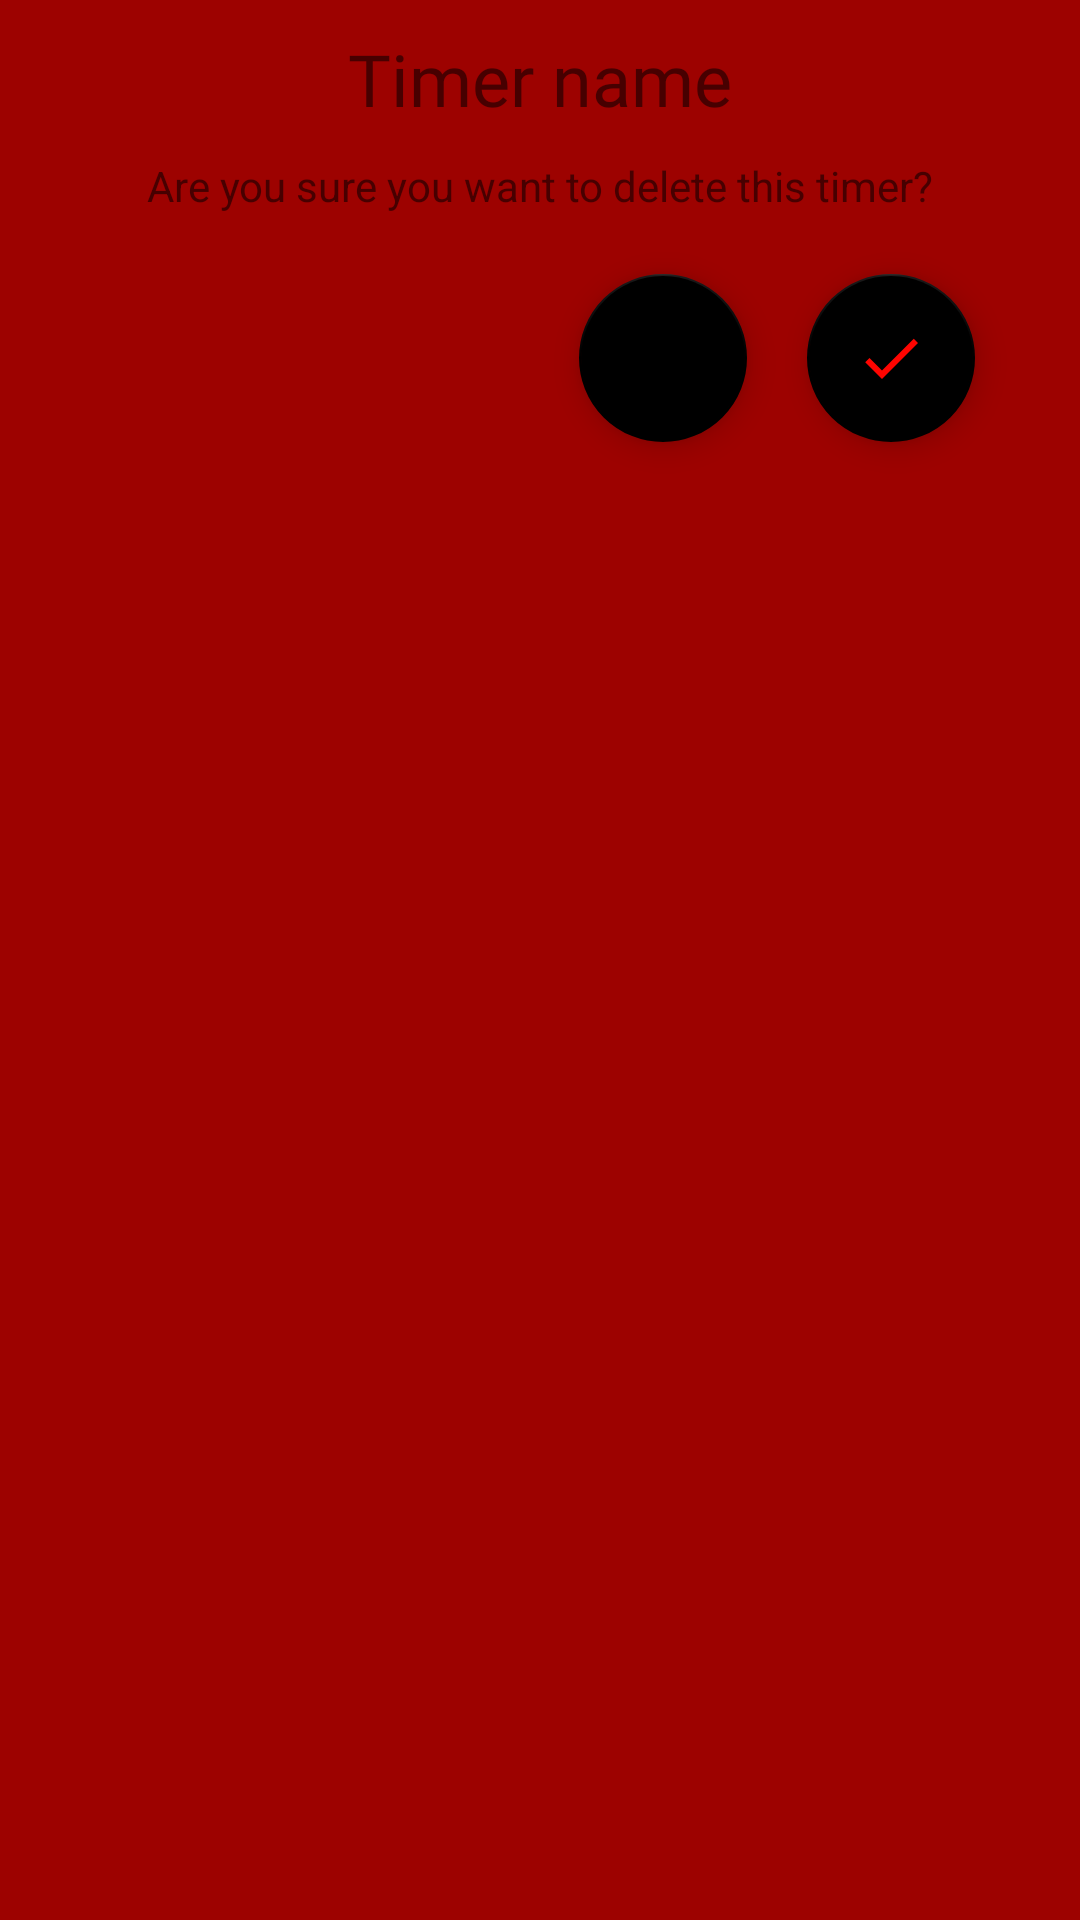

Icons on this 1080*1920 Android screen, each with the point to tap as point (x, y):
check: point (891, 358)
